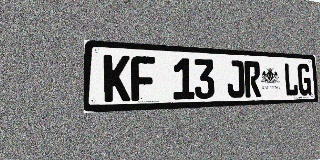1: (173, 58, 194, 100)
3: (194, 59, 214, 99)
F: (131, 56, 155, 101)
G: (297, 63, 311, 96)
J: (226, 60, 245, 98)
K: (104, 54, 130, 102)
L: (284, 63, 298, 96)
R: (244, 61, 261, 97)
